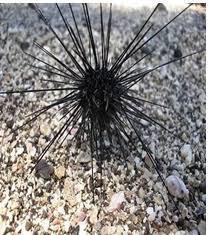urchin: (17, 10, 179, 198)
